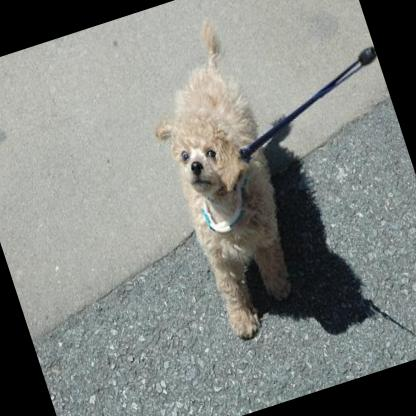toy_poodle: (123, 12, 321, 348)
